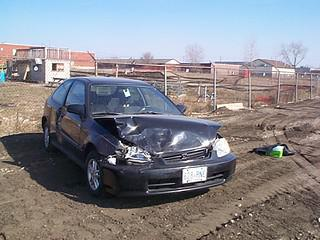Headlight-Damage: (118, 145, 156, 171)
bonnet-dent: (108, 109, 217, 146)
